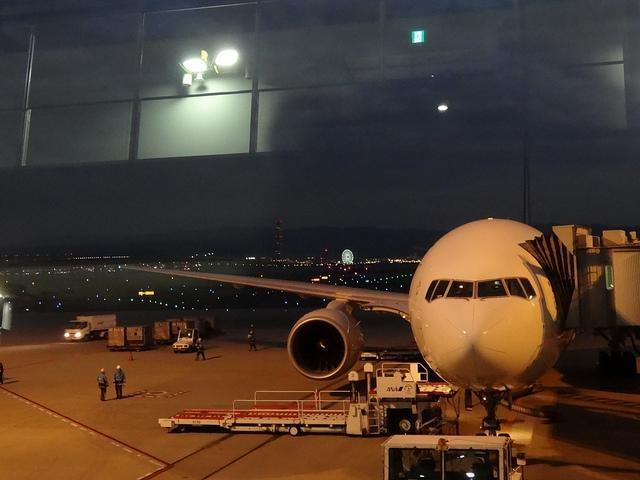truck: (162, 360, 434, 432), (64, 314, 116, 341), (126, 322, 154, 351), (172, 327, 201, 353), (106, 326, 128, 351), (168, 320, 190, 342), (152, 320, 172, 344), (198, 314, 220, 335)
